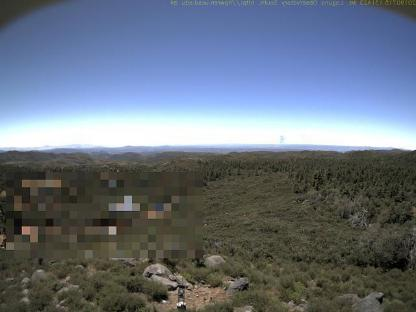smoke: (276, 134, 288, 146)
